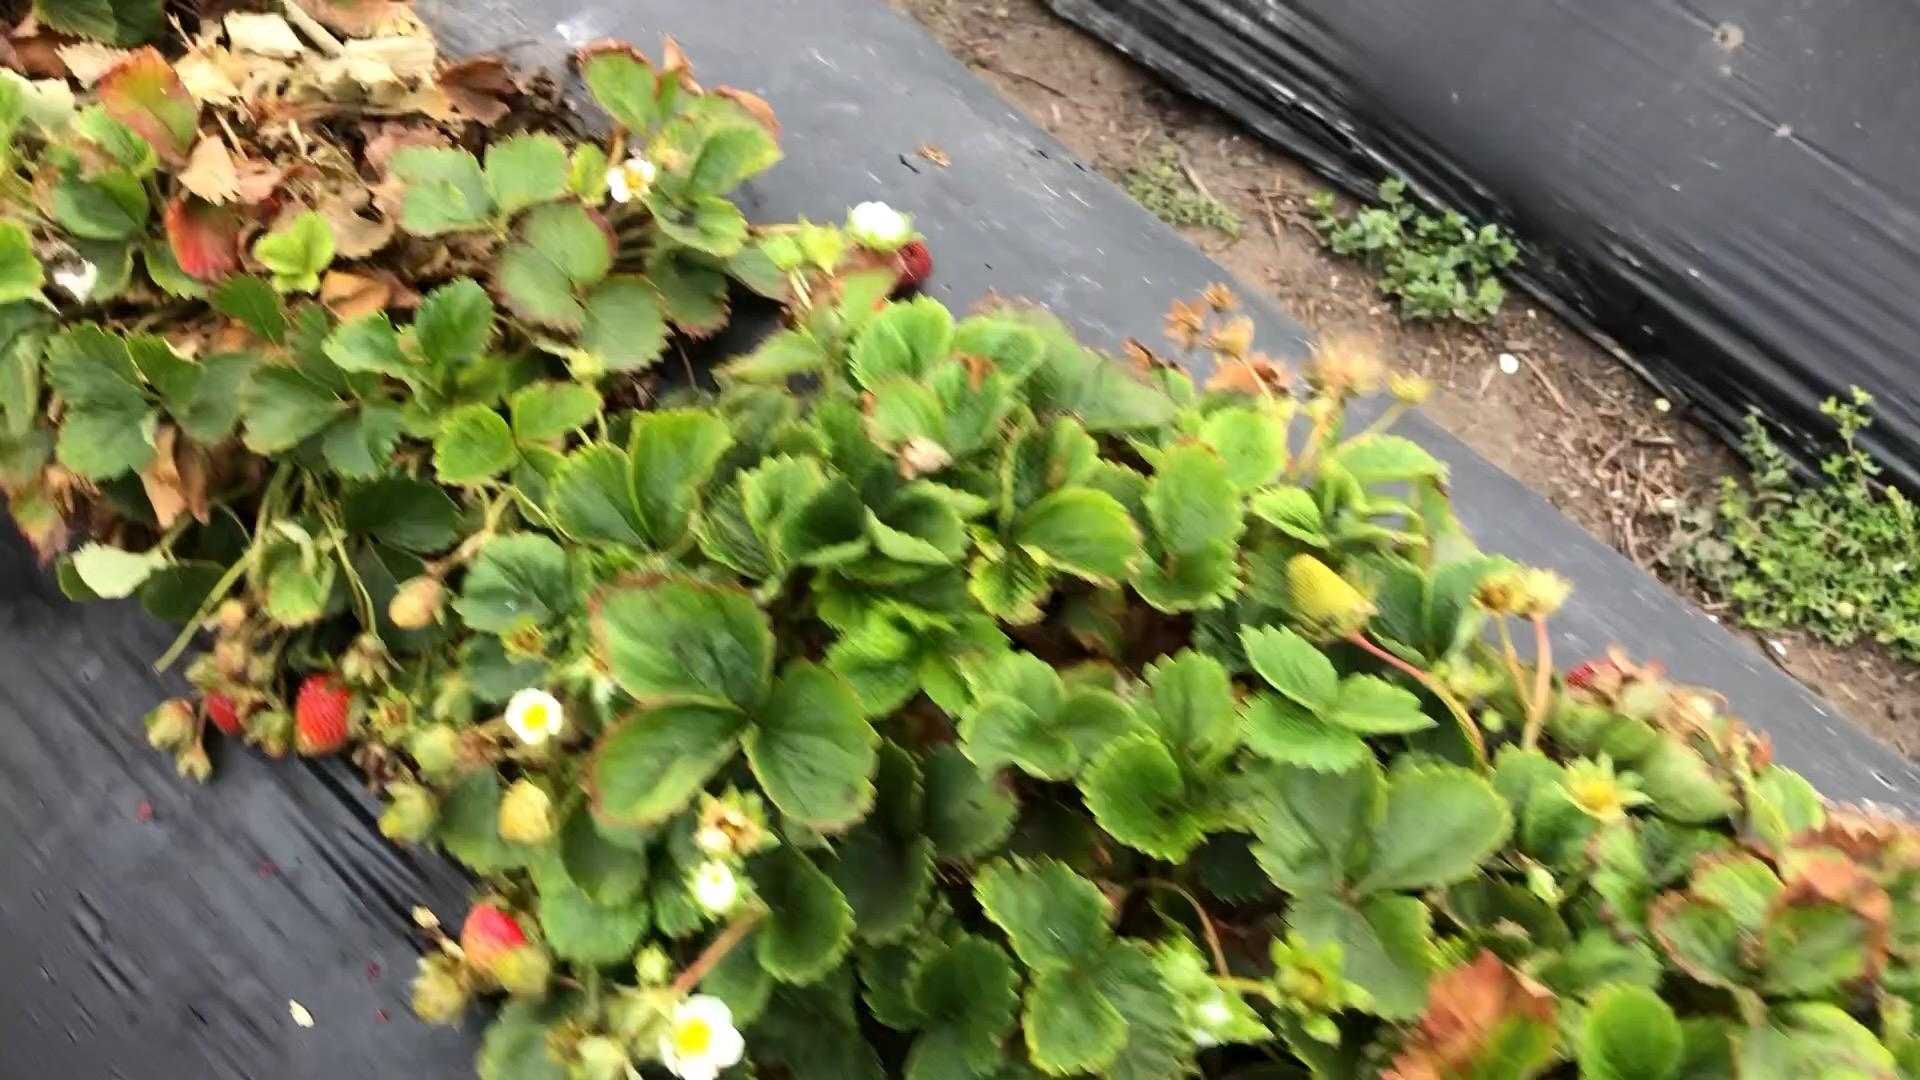ripe_strawberry: (462, 897, 533, 994), (290, 669, 361, 764), (202, 676, 262, 742)
unripe_strawberry: (496, 771, 566, 847), (375, 783, 435, 844), (386, 574, 446, 632), (140, 698, 198, 752)
